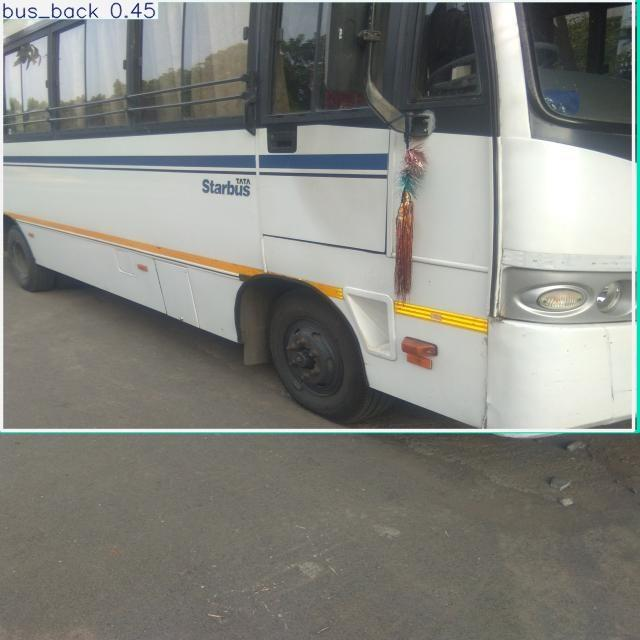bus_front: (0, 0, 639, 453)
